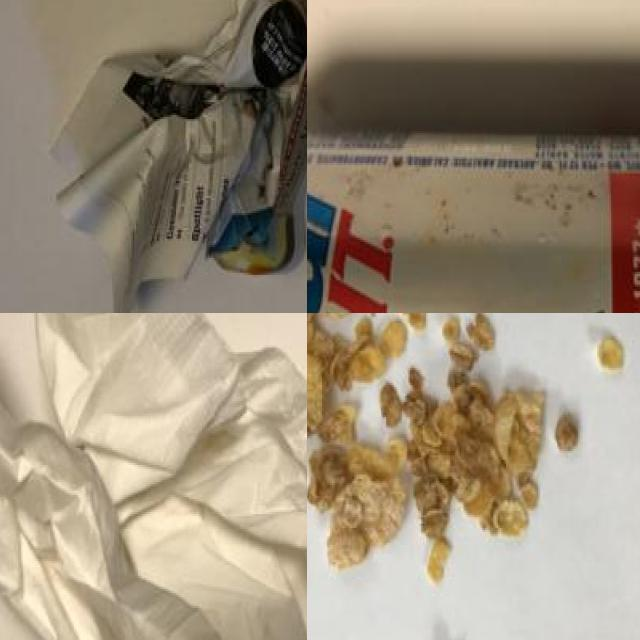compost: (307, 313, 602, 605)
paper: (62, 0, 307, 309)
plastic: (307, 124, 640, 313)
trash: (0, 313, 307, 640)
